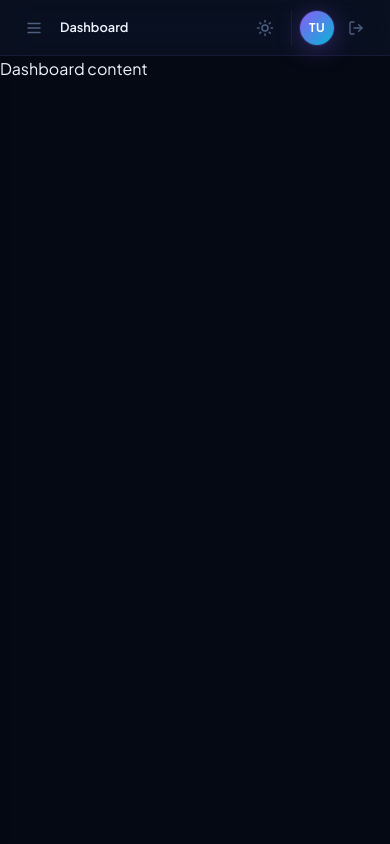
Test: AppShellResponsive › opens drawer, closes via backdrop, Escape, and navigation
The image size is (390, 844).
Click the button named "open navigation": click(34, 28) [16,10,52,46]
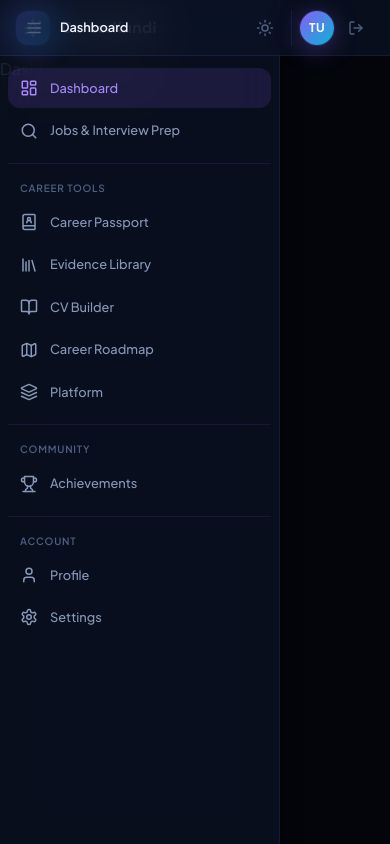
Now the button named "open navigation" is expanded, box [16,10,52,46]
Now the button named "close navigation" is shown
Click the button named "close navigation": click(367, 422) [0,0,389,843]
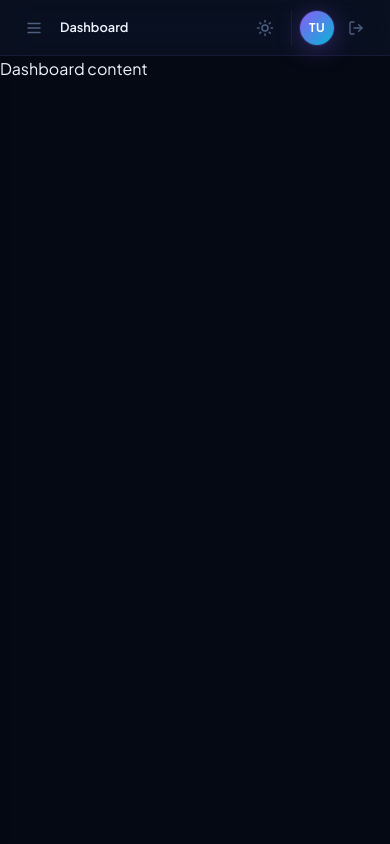
Now the button named "open navigation" is collapsed
Click the button named "open navigation": click(34, 28) [16,10,52,46]
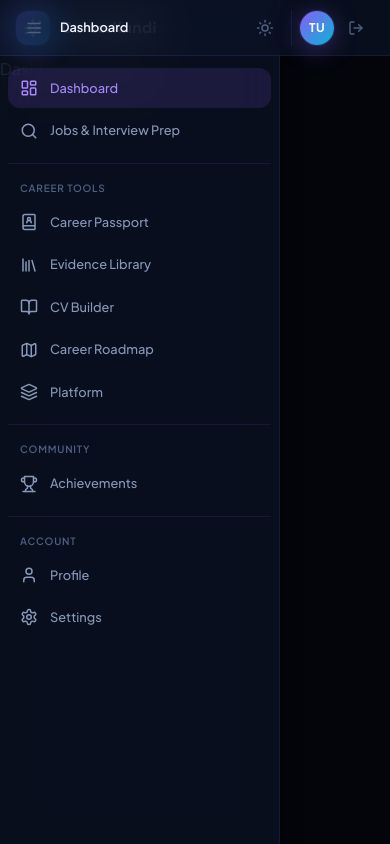
Press Escape
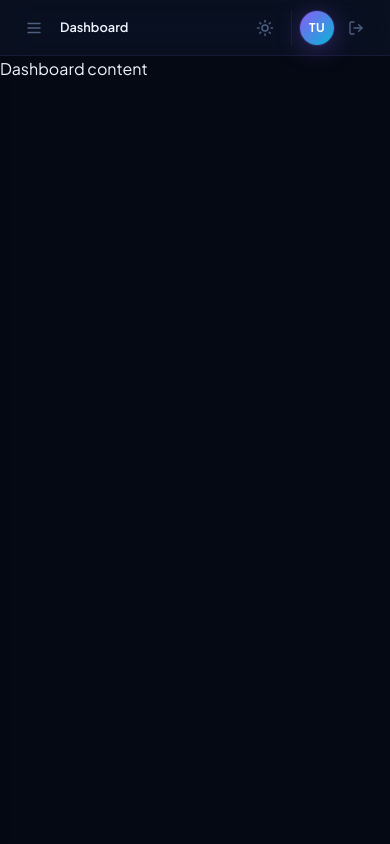
Now the button named "open navigation" is collapsed
Click the button named "open navigation": click(34, 28) [16,10,52,46]
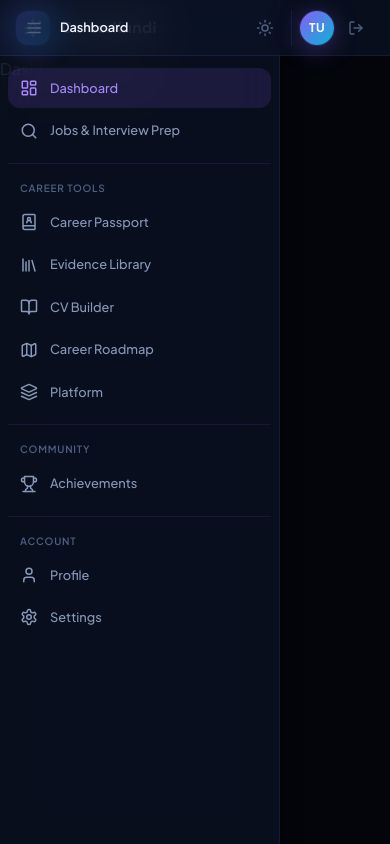
Click the link "Career Passport": click(84, 222) [20,213,149,231]
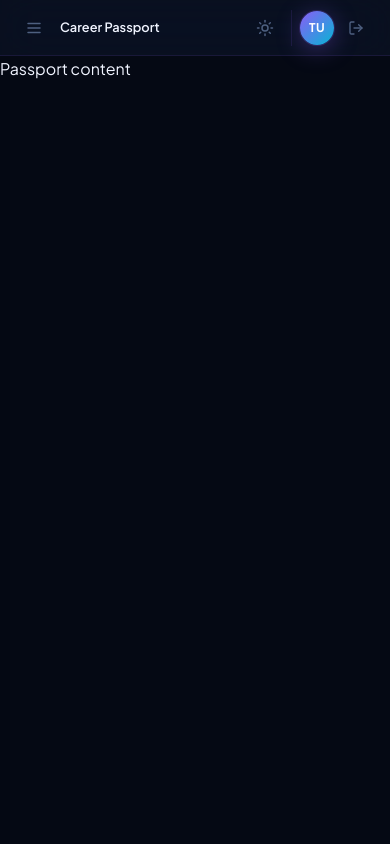
Now the button named "open navigation" is collapsed, box [16,10,52,46]
